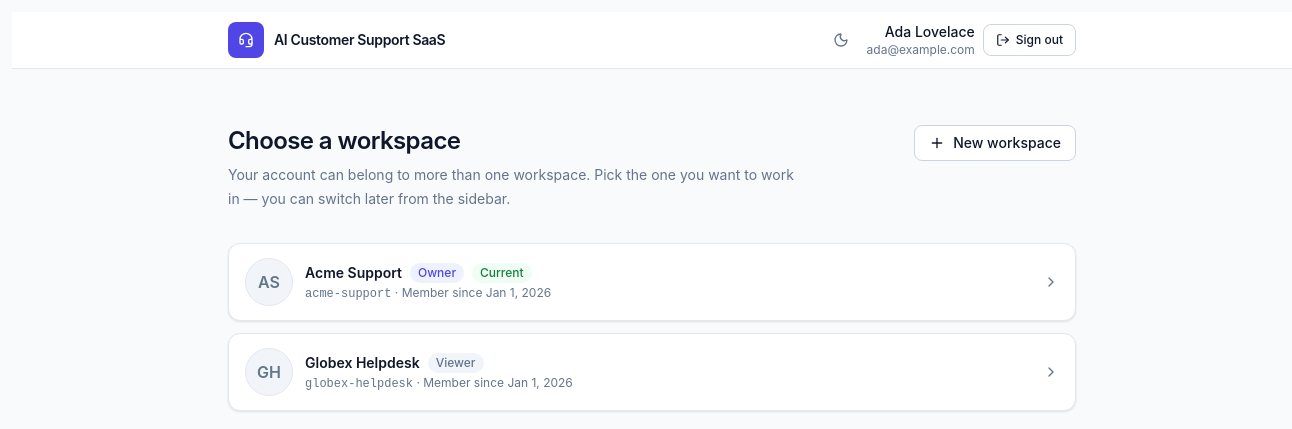
WorkspacesSelectPage › lists memberships with roles and activates the chosen workspace
Expected: the text "Acme Support" is shown, [305,262,402,282]
Expected: the text "Viewer" is shown, [428,352,484,372]
Click the button "Globex Helpdesk" at (269, 372), box [228,333,1076,411]
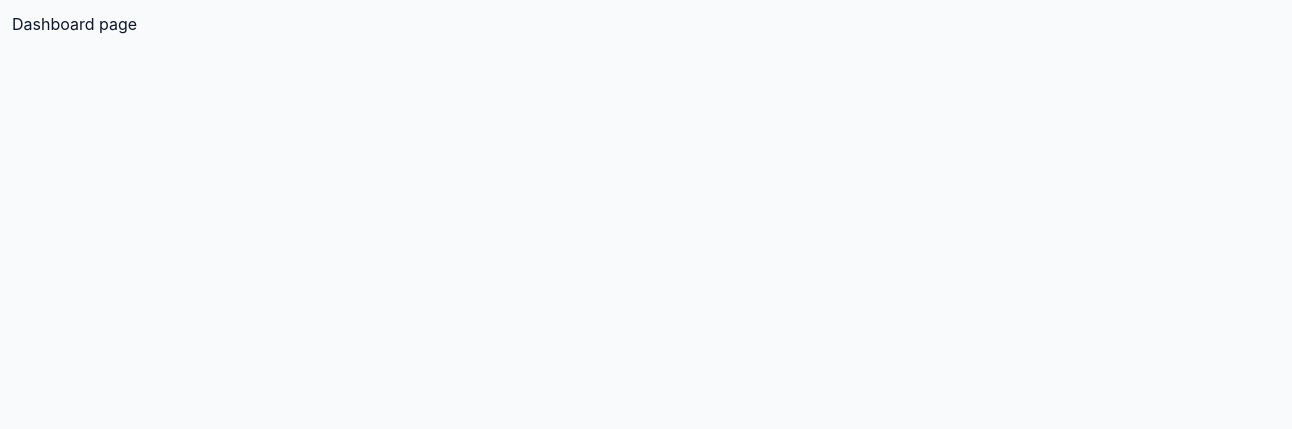
Now the text "Dashboard page" is shown, box [12,14,137,34]
